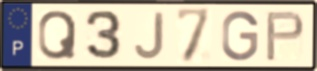3: (83, 9, 125, 62)
7: (175, 6, 214, 66)
G: (220, 9, 261, 63)
J: (132, 11, 166, 62)
P: (263, 9, 306, 63)
Q: (36, 9, 79, 62)
